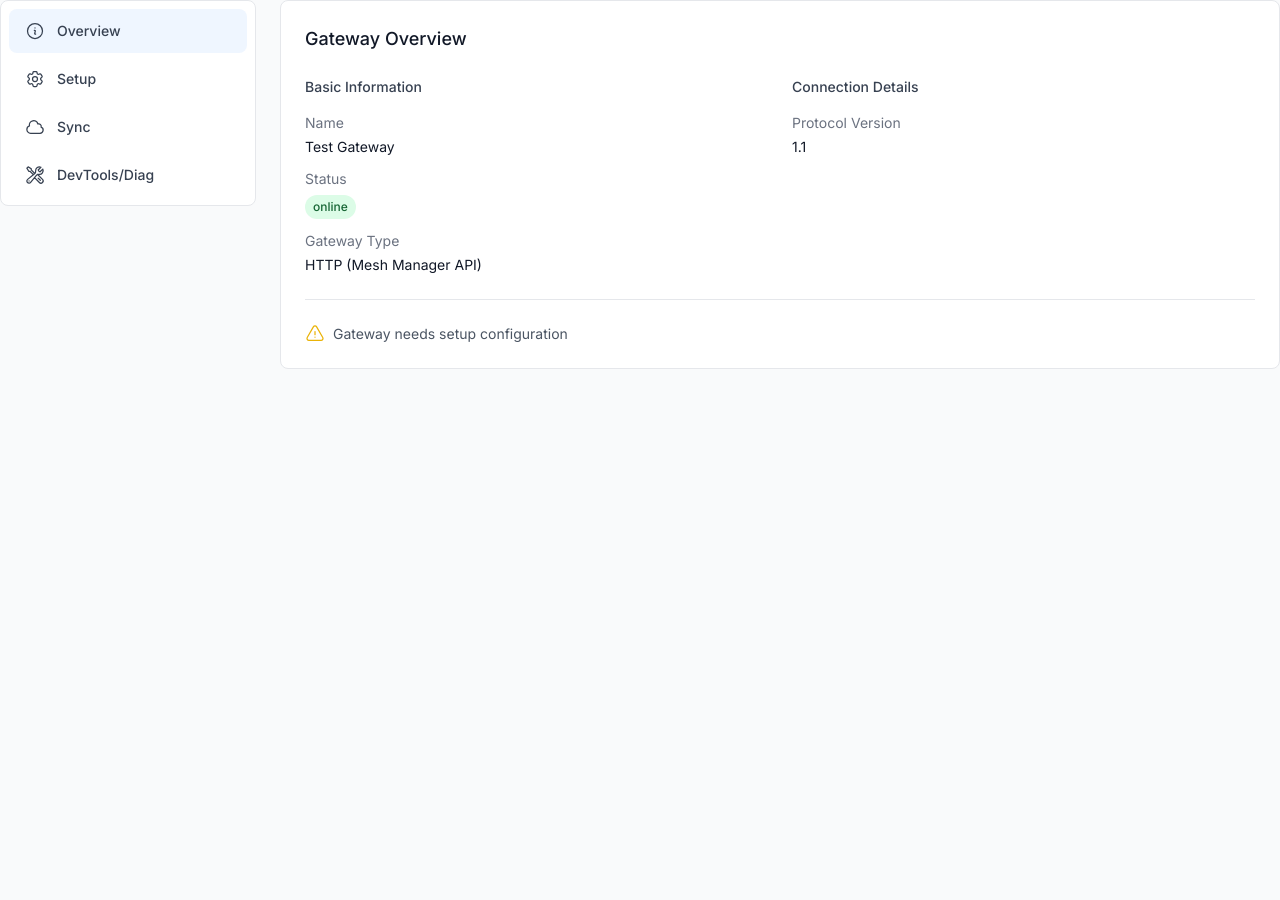
FacilityGatewayTab › Configuration › should expand configuration section when configure button is clicked
The width and height of the screenshot is (1280, 900).
Click the Setup tab
Click the button "Setup".
click(128, 79)  # box [9,57,247,101]
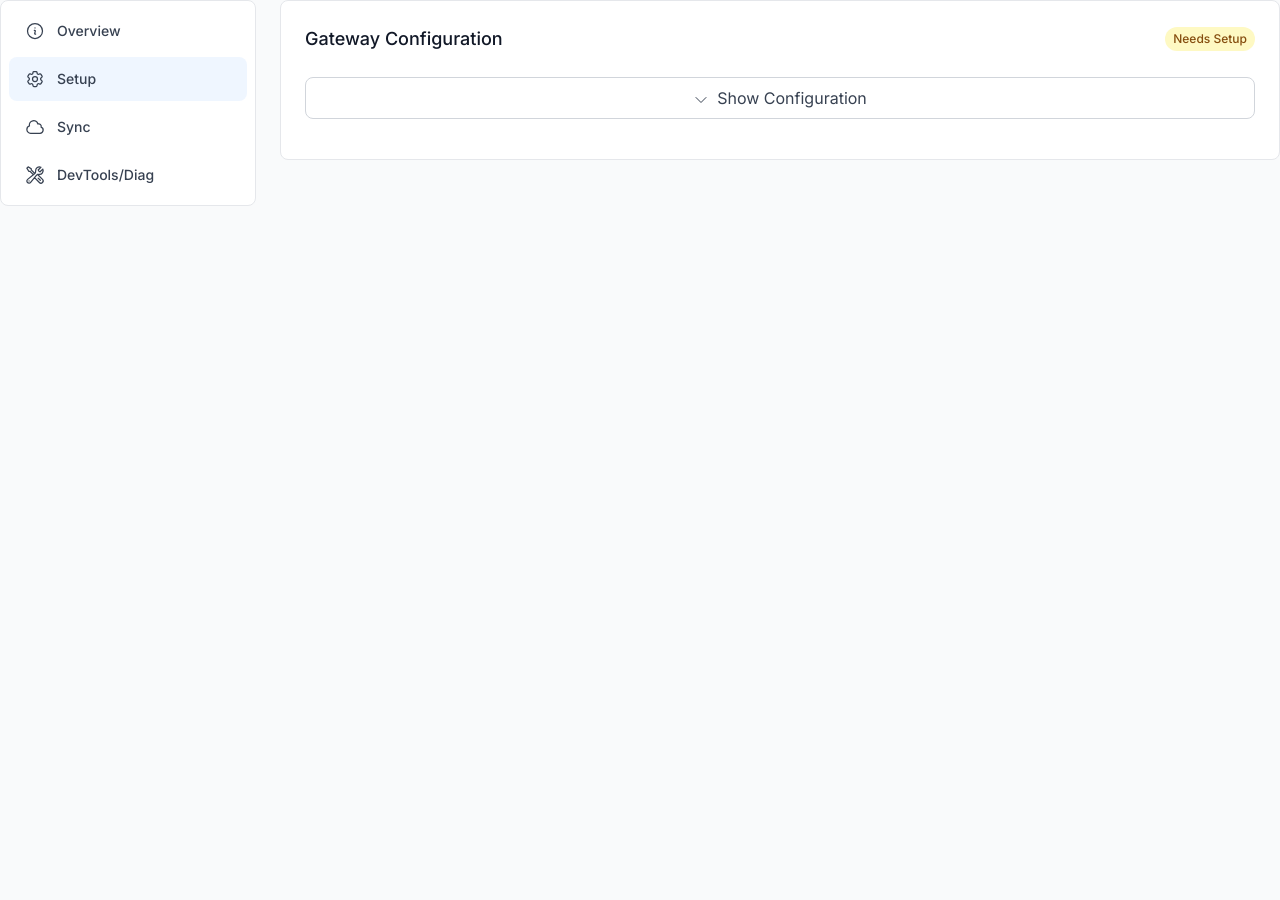
Expected: the button "Show Configuration" is shown
Click the button "Show Configuration".
click(780, 98)  # box [305,77,1255,119]
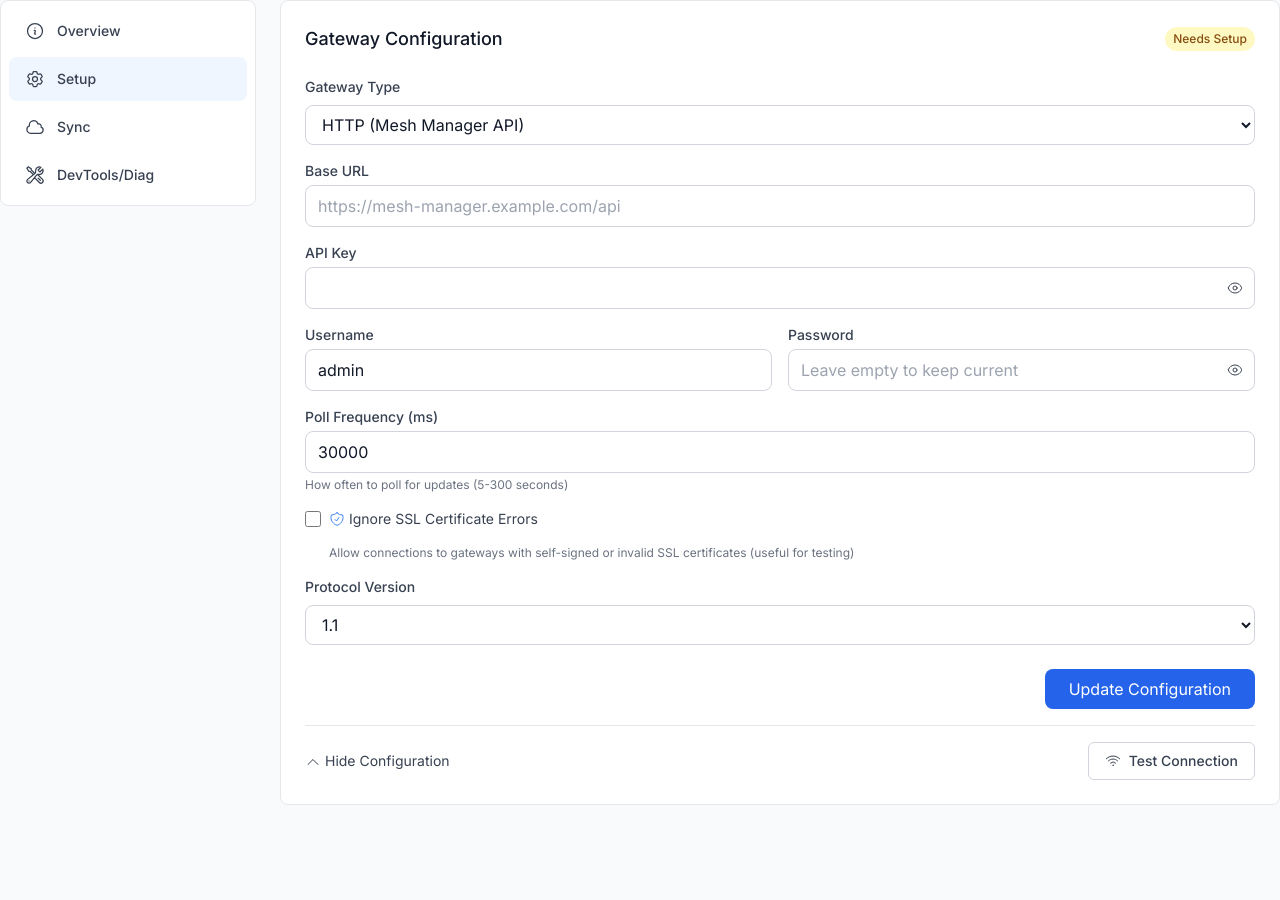
Expected: the text "Gateway Type" is shown, [305,78,400,95]
